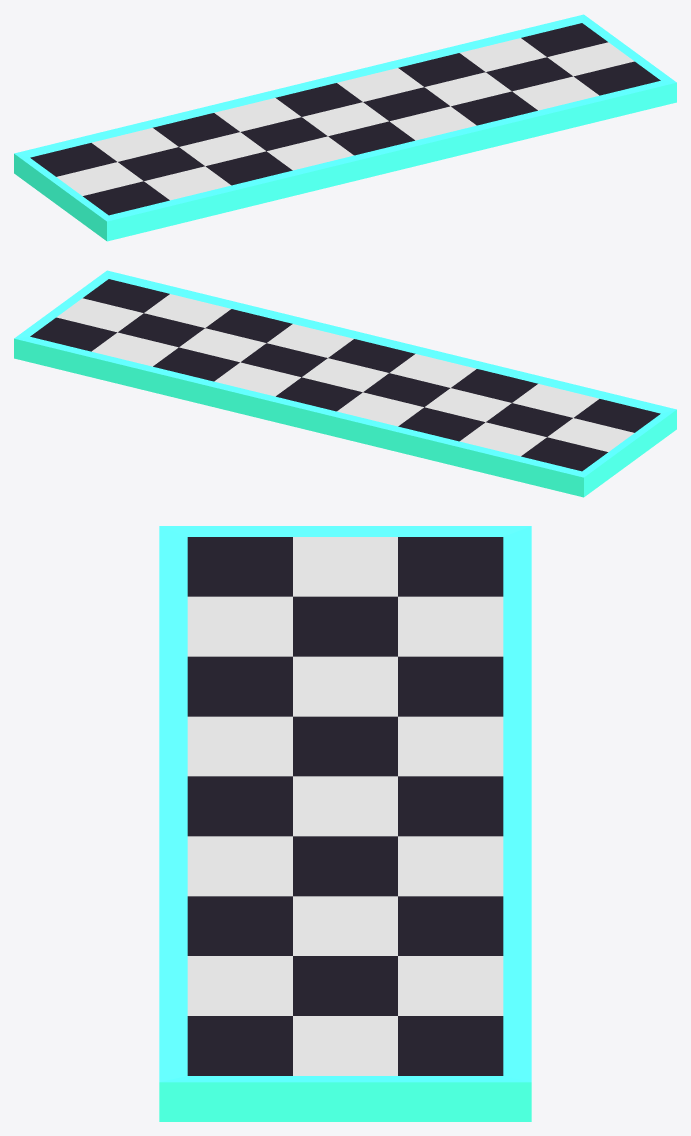
The model's file is FinishLine.fbx.
3 renders of one model, top to bottom at view 1: azimuth 30°, elevation 25°; view 2: azimuth 150°, elevation 25°; view 3: azimuth 270°, elevation 25°, orthographic. The views are drawn at different scales.
Visible parts, largest first — view 1: Finish Line; view 2: Finish Line; view 3: Finish Line.
Part boxes in pixels (bbox=[...]): Finish Line: bbox=[14, 14, 676, 241]; Finish Line: bbox=[14, 270, 676, 497]; Finish Line: bbox=[159, 526, 531, 1121].
Bounding box in the file's own units: 6771 × 226 × 1916.
